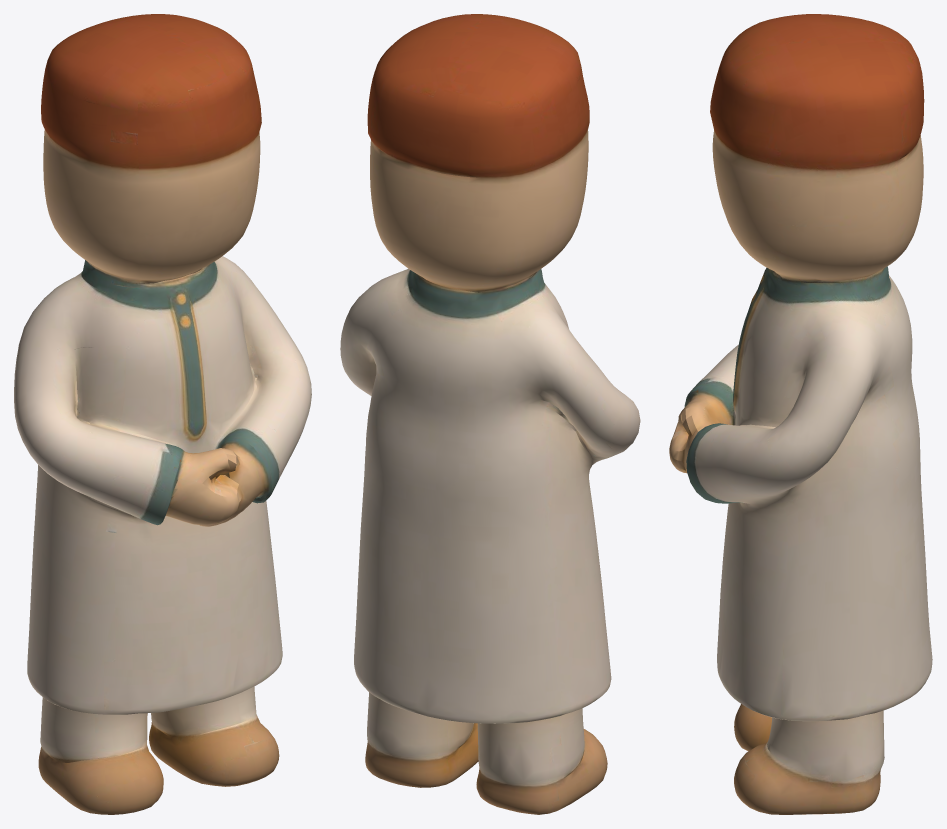
File: Meshy_AI_model.glb
3 views of the same model, side by side, from view 1: azimuth 30°, elevation 25°; view 2: azimuth 150°, elevation 25°; view 3: azimuth 270°, elevation 25° (orthographic).
Visible parts, largest first — view 1: Mesh0; view 2: Mesh0; view 3: Mesh0.
Part boxes in pixels (bbox=[...]): Mesh0: bbox=[14, 14, 311, 814]; Mesh0: bbox=[340, 14, 640, 814]; Mesh0: bbox=[669, 14, 932, 814].
Bounding box in the file's own units: 0.7548 × 1.9 × 0.6161.
1 material, 1 textured.
